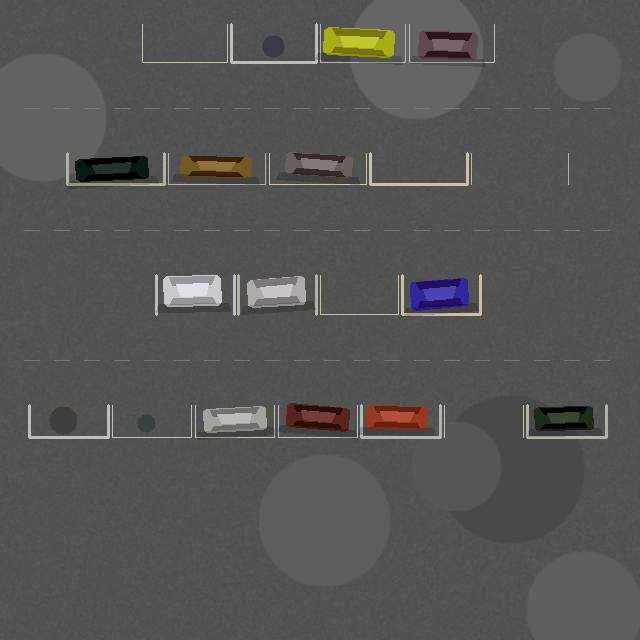space-empty: (142, 24, 227, 62), (231, 24, 316, 62), (320, 275, 398, 314), (370, 153, 467, 184), (471, 153, 568, 184), (29, 405, 108, 437), (112, 405, 191, 437), (444, 405, 523, 437)
space-occupied: (320, 24, 405, 62), (409, 24, 494, 62), (156, 275, 234, 314), (238, 275, 316, 314), (402, 275, 480, 314), (67, 153, 164, 184), (168, 153, 265, 184), (269, 153, 366, 184), (195, 405, 274, 437), (278, 405, 357, 437), (361, 405, 440, 437), (527, 405, 606, 437)
